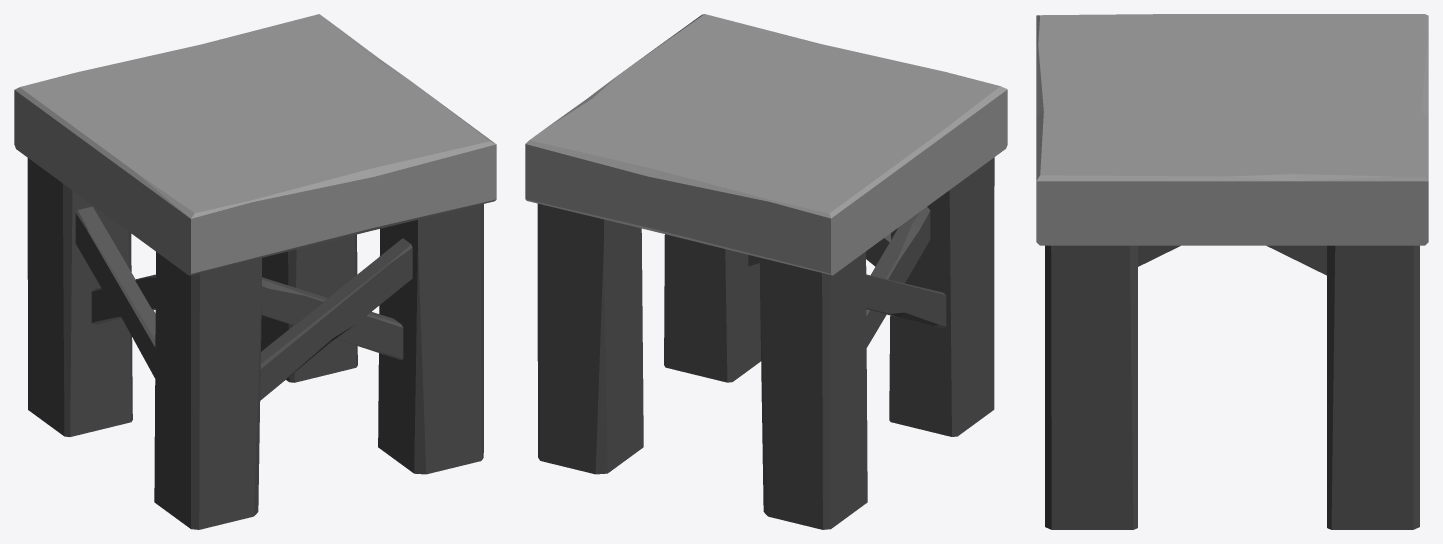
The model's file is BG_upstairs_conner.fbx.
The picture shows the model from 3 angles, left to right: view 1: azimuth 30°, elevation 25°; view 2: azimuth 150°, elevation 25°; view 3: azimuth 270°, elevation 25°; orthographic projection. The views are drawn at different scales.
Visible parts, largest first — view 1: BG_upstairs_conner; view 2: BG_upstairs_conner; view 3: BG_upstairs_conner.
Part boxes in pixels (left/top/right/bottom): BG_upstairs_conner: left=14, top=14, right=496, bottom=529; BG_upstairs_conner: left=525, top=14, right=1007, bottom=529; BG_upstairs_conner: left=1036, top=14, right=1428, bottom=529.
Bounding box in the file's own units: 20 × 20 × 20.
